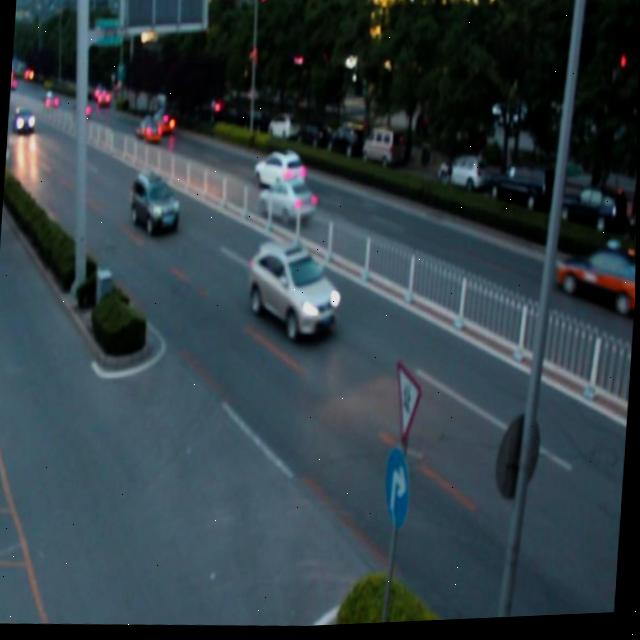car: (245, 242, 340, 340), (559, 245, 637, 318), (129, 175, 181, 234), (257, 177, 316, 225), (252, 150, 309, 199), (135, 116, 163, 146), (148, 111, 175, 137)
